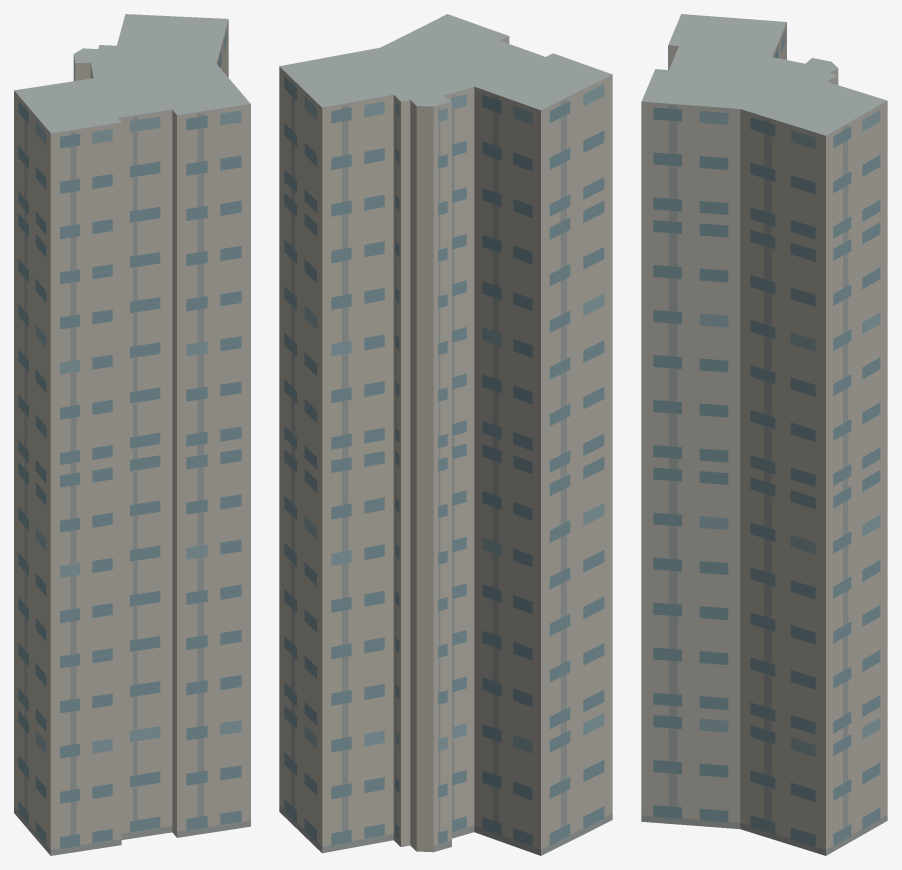
Rendered from residential-852cb130-15c5-43d0-b982-3f046f2a957c.glb.
3 renders of one model, left to right at view 1: azimuth 30°, elevation 25°; view 2: azimuth 150°, elevation 25°; view 3: azimuth 270°, elevation 25°, orthographic. The views are drawn at different scales.
Visible parts, largest first — view 1: residential-852cb130-15c5-43d0-b982-3f046f2a957c.tmp; view 2: residential-852cb130-15c5-43d0-b982-3f046f2a957c.tmp; view 3: residential-852cb130-15c5-43d0-b982-3f046f2a957c.tmp.
Part boxes in pixels (left/top/right/bottom): residential-852cb130-15c5-43d0-b982-3f046f2a957c.tmp: left=14, top=14, right=250, bottom=855; residential-852cb130-15c5-43d0-b982-3f046f2a957c.tmp: left=279, top=14, right=612, bottom=855; residential-852cb130-15c5-43d0-b982-3f046f2a957c.tmp: left=641, top=14, right=887, bottom=855.
Size of the model in its own units: 32.65 by 90 by 27.87.
